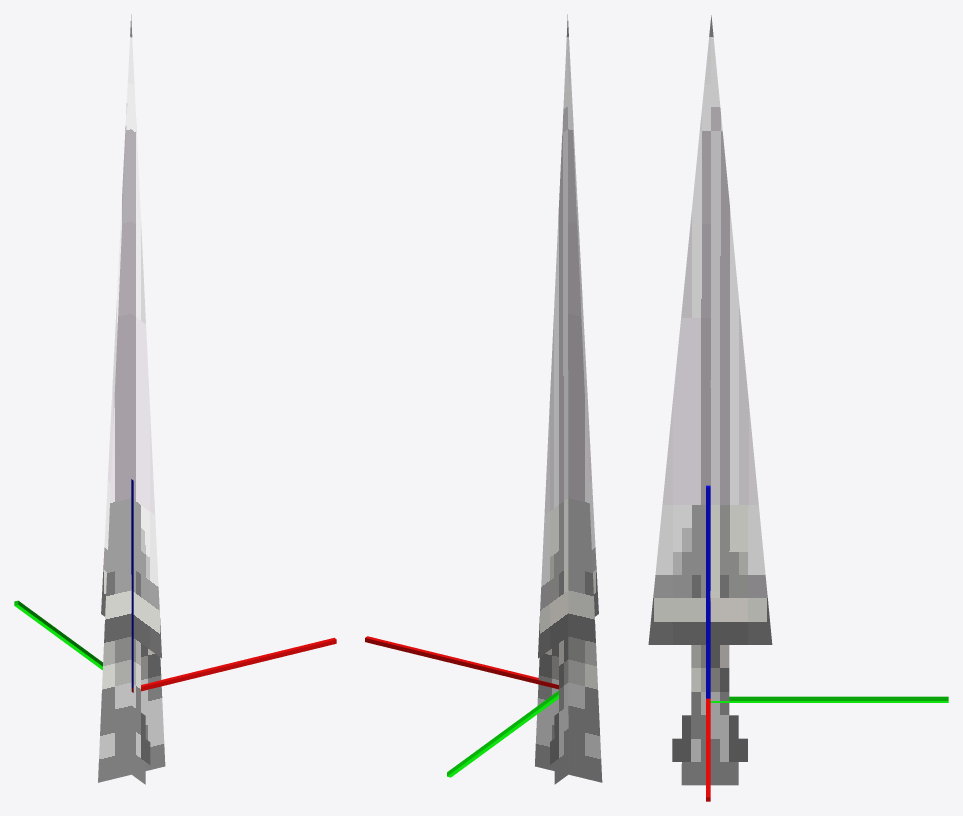
Rendered from sword.glb.
The picture shows the model from 3 angles, left to right: view 1: azimuth 30°, elevation 25°; view 2: azimuth 150°, elevation 25°; view 3: azimuth 270°, elevation 25°; orthographic projection.
Parts seen in each view (by area): view 1: attachments e sword standardModel, Dummy_hotspot; view 2: attachments e sword standardModel, Dummy_hotspot; view 3: attachments e sword standardModel, Dummy_hotspot.
Boxes of the visible parts, x1,y1,x2,y2 form: attachments e sword standardModel: (98, 14, 165, 784); Dummy_hotspot: (14, 479, 336, 692); attachments e sword standardModel: (535, 14, 602, 784); Dummy_hotspot: (365, 636, 558, 777); attachments e sword standardModel: (648, 15, 772, 785); Dummy_hotspot: (706, 485, 948, 801).
Bounding box in the file's own units: 0.2915 × 0.8945 × 0.3301.
Materials: 2 (1 with a texture image).
